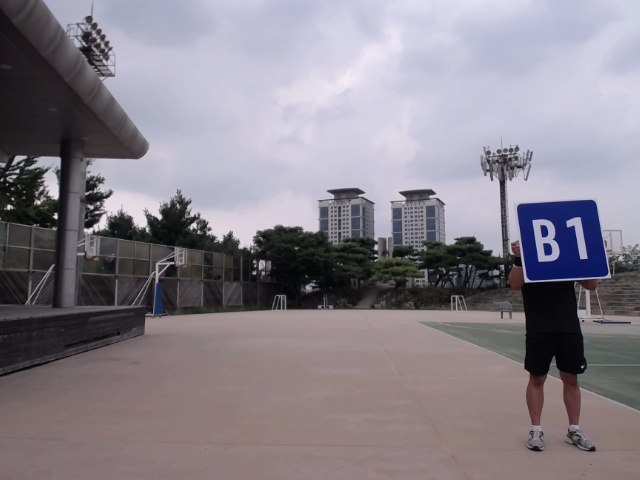delivery_b1: (452, 211, 481, 240)
